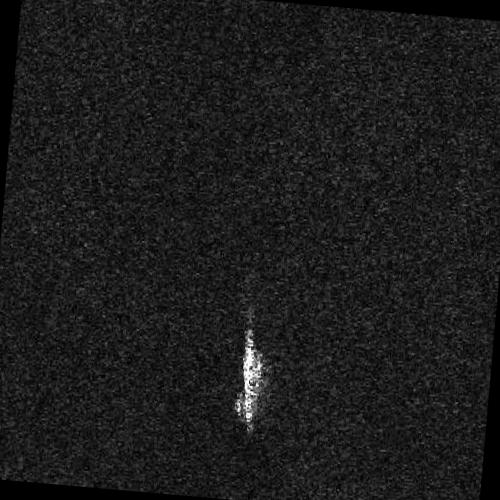ship: (235, 329, 262, 430)
